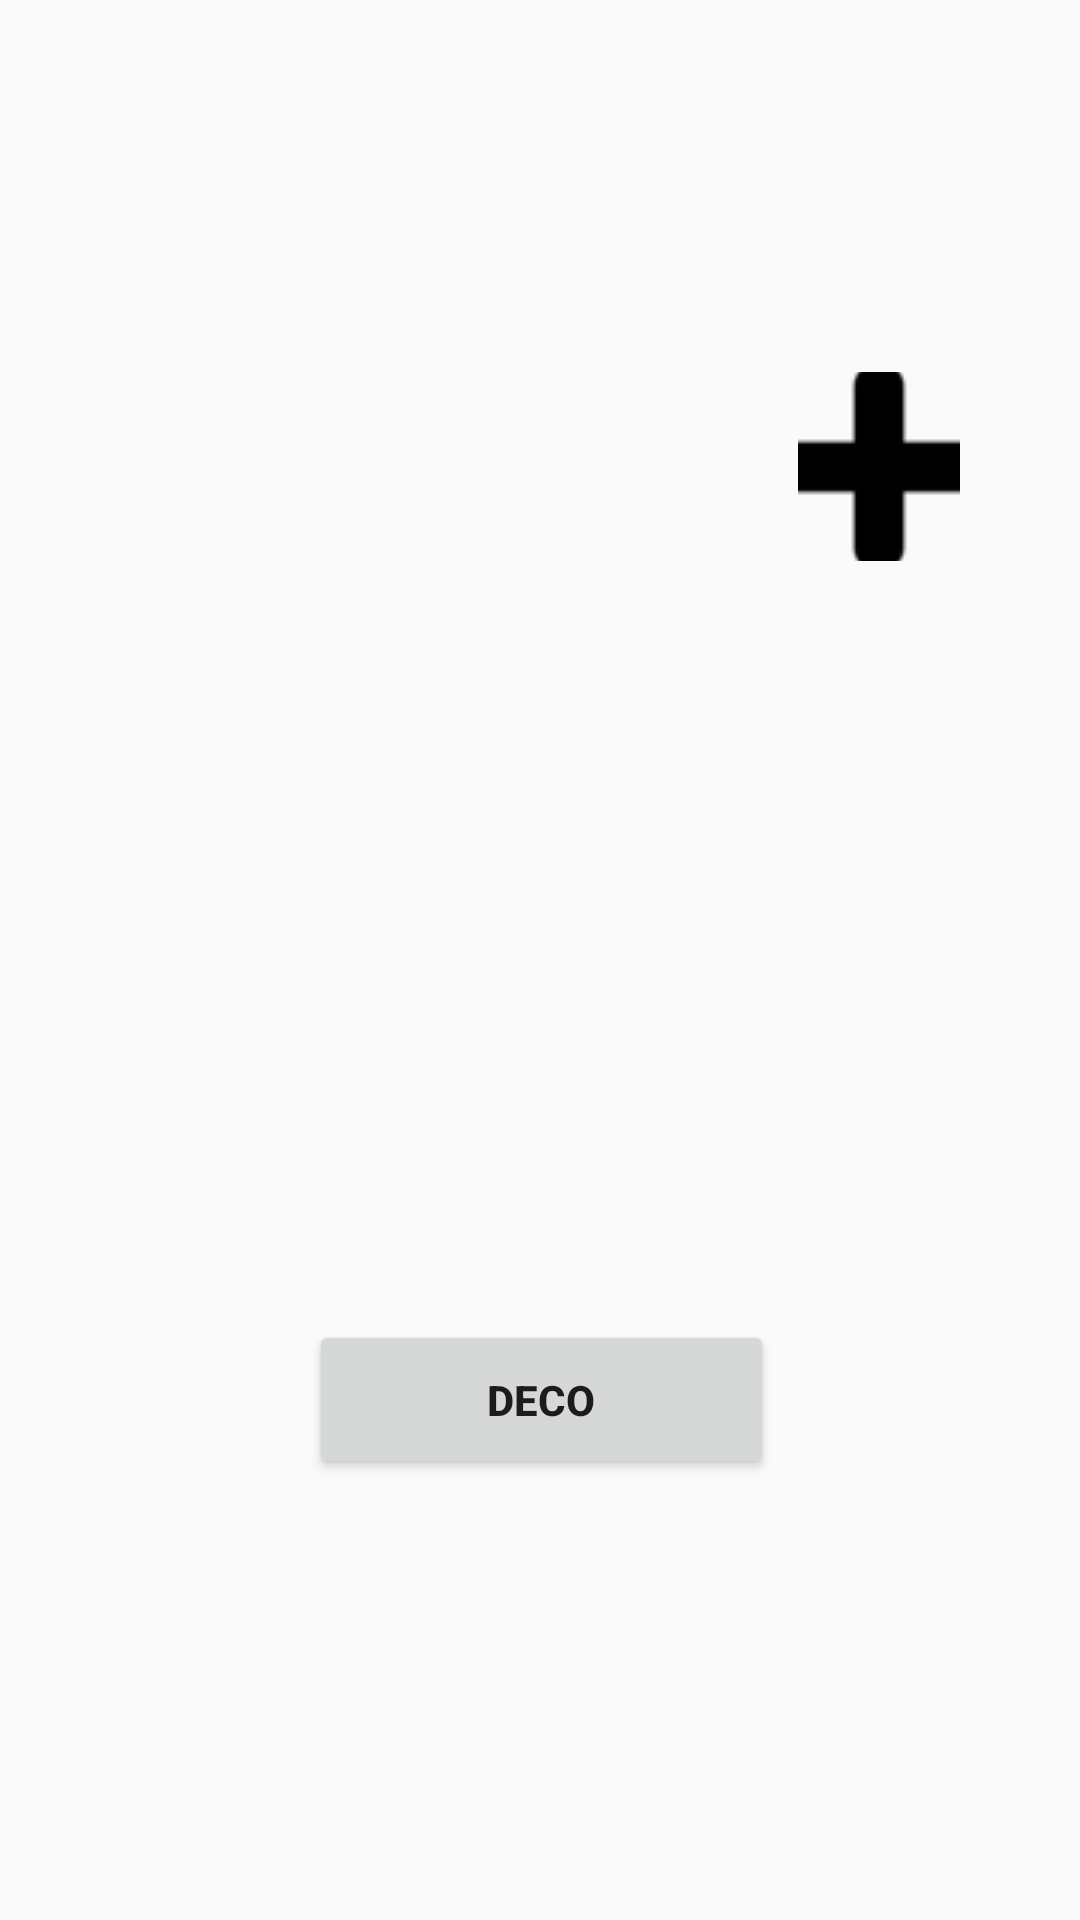

Point at icon controls on the screen. Image size 1080px×1920px, points as point (x, y).
add: point (879, 466)
